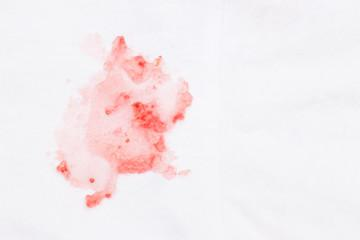gun: (45, 37, 197, 207)
